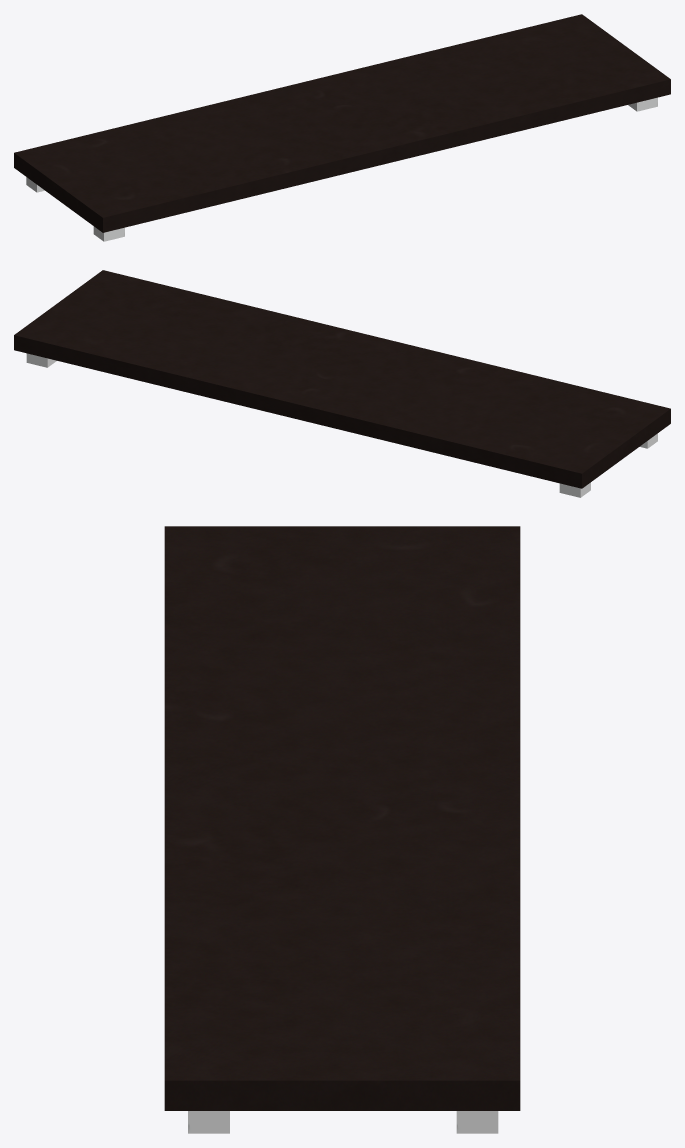
Rendered from set base.FBX.
3 views of the same model, one above another, from view 1: azimuth 30°, elevation 25°; view 2: azimuth 150°, elevation 25°; view 3: azimuth 270°, elevation 25° (orthographic). The views are drawn at different scales.
Parts seen in each view (by area): view 1: set base; view 2: set base; view 3: set base.
Part boxes in pixels (<box>): set base: <box>14,14,670,241</box>; set base: <box>14,270,670,497</box>; set base: <box>164,526,520,1133</box>.
Size of the model in its own units: 254 by 12.77 by 68.81.
Materials: 1 (1 with a texture image).
